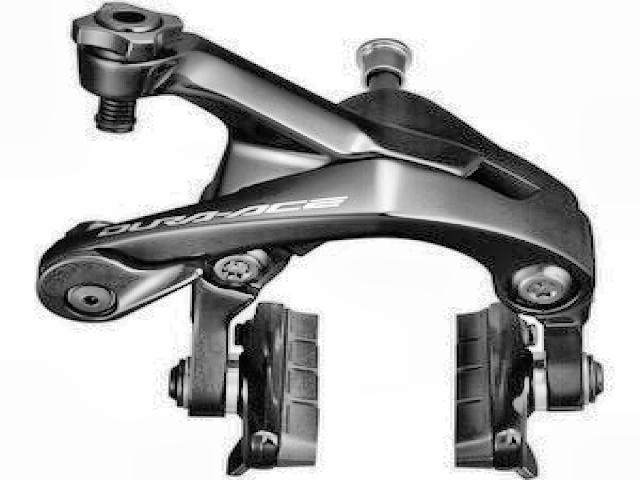rim_brake: (34, 1, 605, 480)
